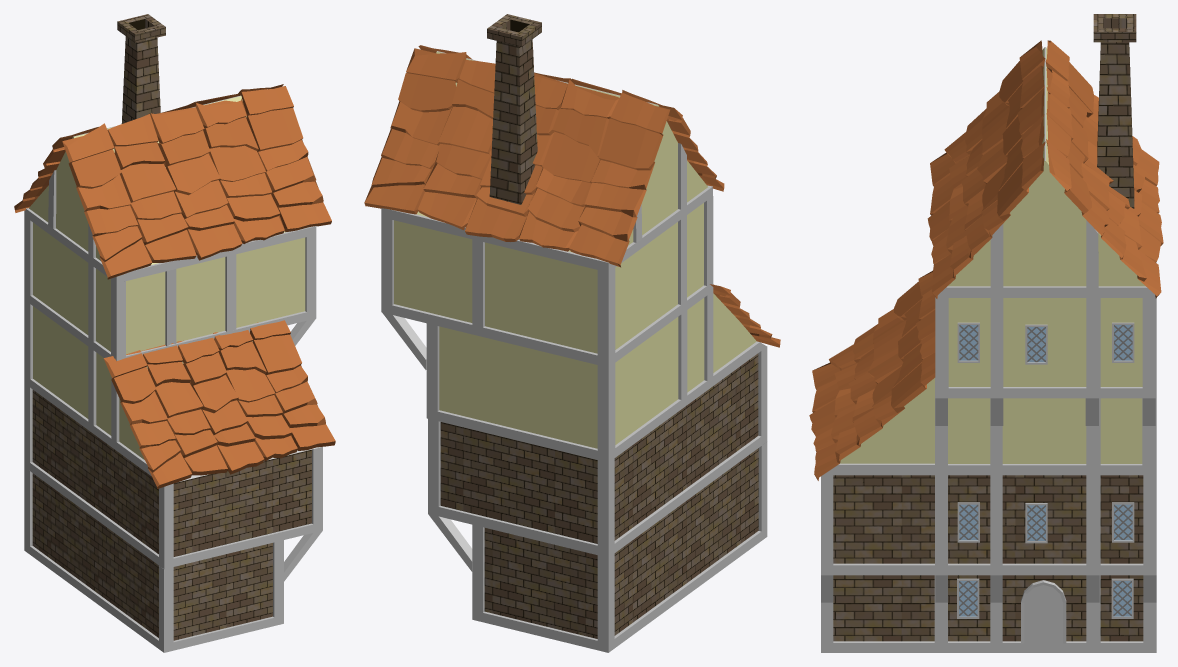
Rendered from BlackSmith_V3.fbx.
3 renders of one model, left to right at view 1: azimuth 30°, elevation 25°; view 2: azimuth 150°, elevation 25°; view 3: azimuth 270°, elevation 25°, orthographic. The views are drawn at different scales.
Visible parts, largest first — view 1: TownBuilding_2; view 2: TownBuilding_2; view 3: TownBuilding_2.
Part boxes in pixels (bbox=[...]): TownBuilding_2: bbox=[14, 14, 335, 652]; TownBuilding_2: bbox=[364, 14, 780, 652]; TownBuilding_2: bbox=[809, 14, 1163, 652].
Bounding box in the file's own units: 7.06 × 8 × 15.41.
